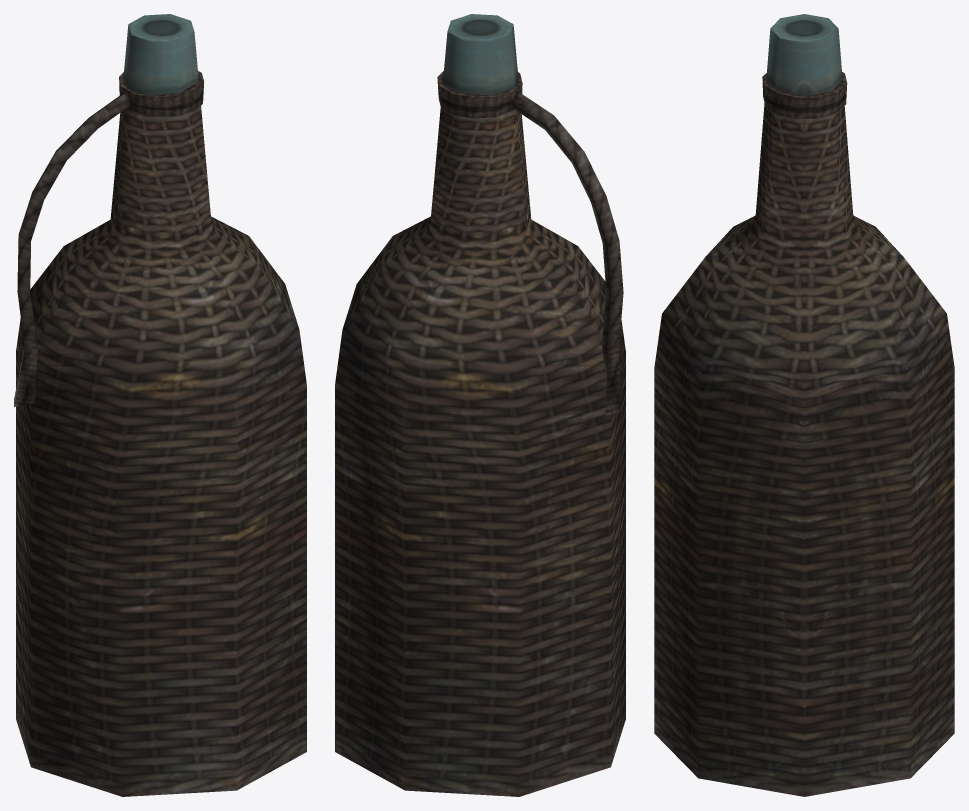
File: MerchantShip_Bottle_04.FBX
3 views of the same model, side by side, from view 1: azimuth 30°, elevation 25°; view 2: azimuth 150°, elevation 25°; view 3: azimuth 270°, elevation 25° (orthographic).
Visible parts, largest first — view 1: SM_MerchantShip_Bottle_04; view 2: SM_MerchantShip_Bottle_04; view 3: SM_MerchantShip_Bottle_04.
Boxes of the visible parts, bbox=[...] form: SM_MerchantShip_Bottle_04: bbox=[14, 14, 306, 796]; SM_MerchantShip_Bottle_04: bbox=[335, 14, 625, 796]; SM_MerchantShip_Bottle_04: bbox=[654, 14, 954, 796].
Size of what is drawn, in the model's own units: 12.03 by 11.44 by 29.64.
